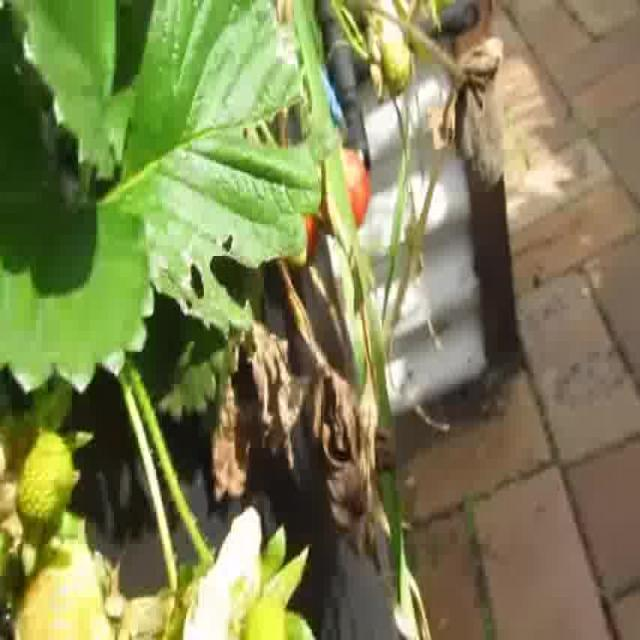Fruta sana: (16, 430, 74, 526), (318, 146, 372, 242), (278, 196, 320, 271), (376, 34, 414, 102)
Moho gris: (450, 56, 507, 194)
